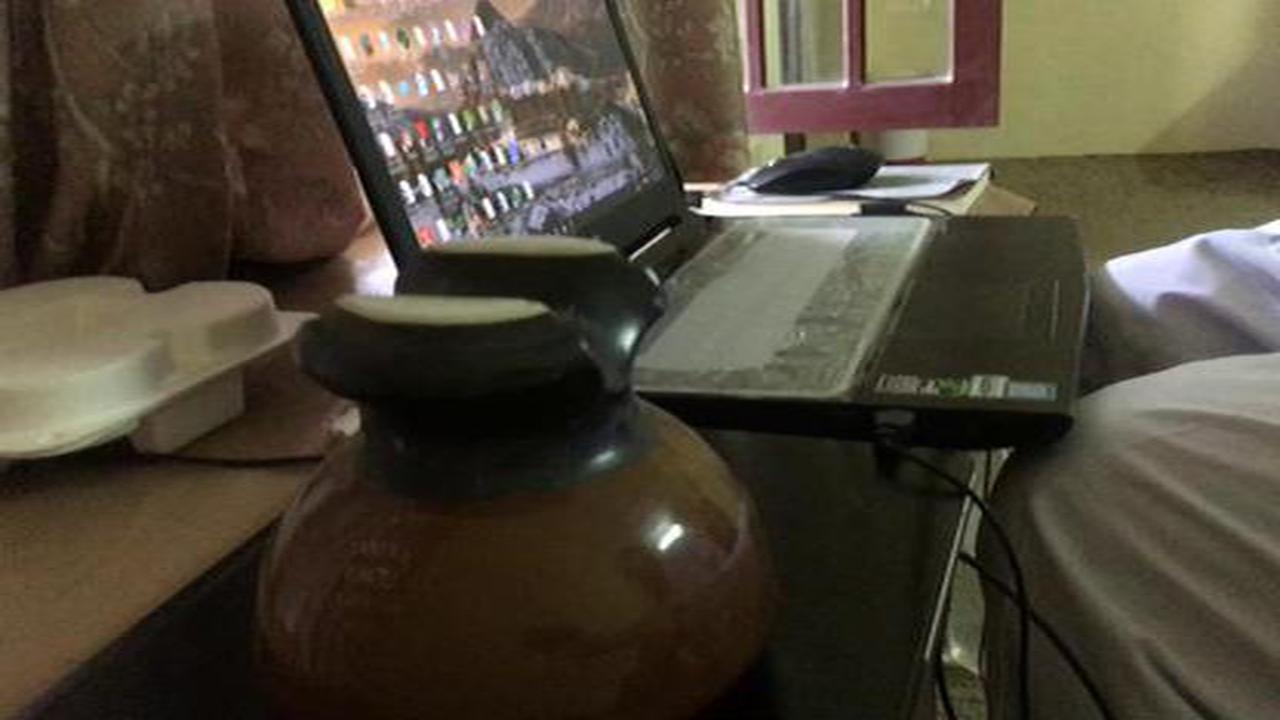insulator_pin: (241, 226, 797, 715)
